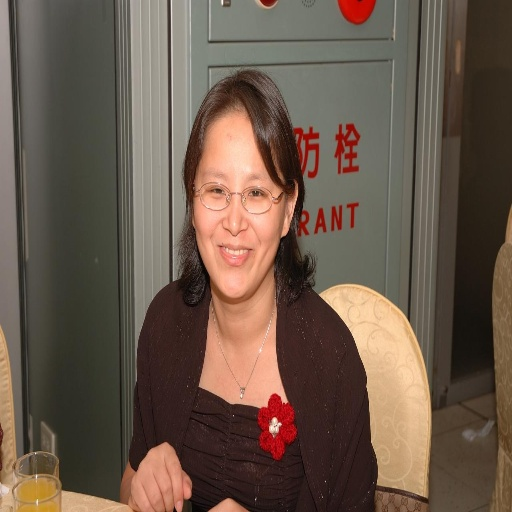hand: (146, 431, 190, 511), (206, 498, 247, 511)
